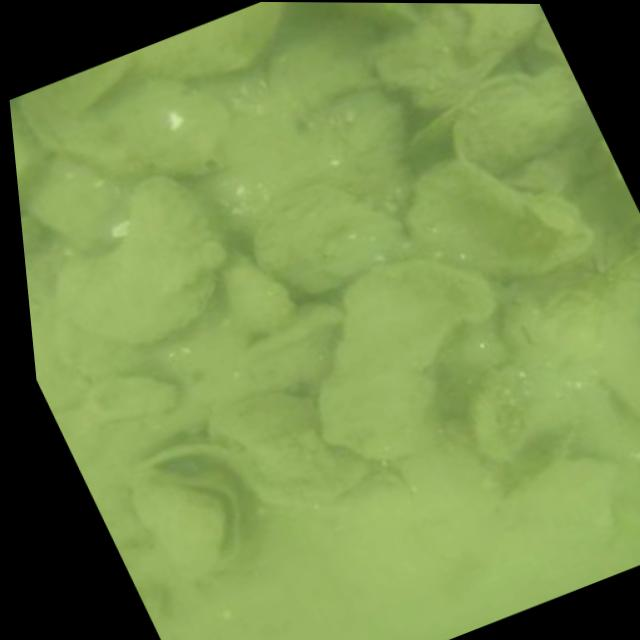Oyster-Closed: (452, 62, 595, 178)
Oyster-Indeterminate: (315, 254, 500, 462), (53, 168, 232, 347), (395, 156, 599, 284), (207, 392, 375, 511), (252, 178, 416, 297), (134, 2, 284, 80), (78, 376, 184, 427), (316, 2, 425, 34)
Oyster-Open: (133, 481, 244, 584)
